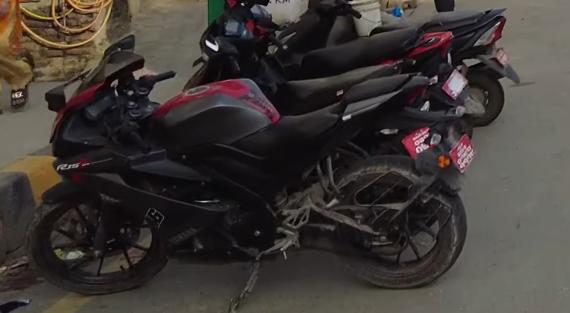bike: (28, 29, 480, 298)
